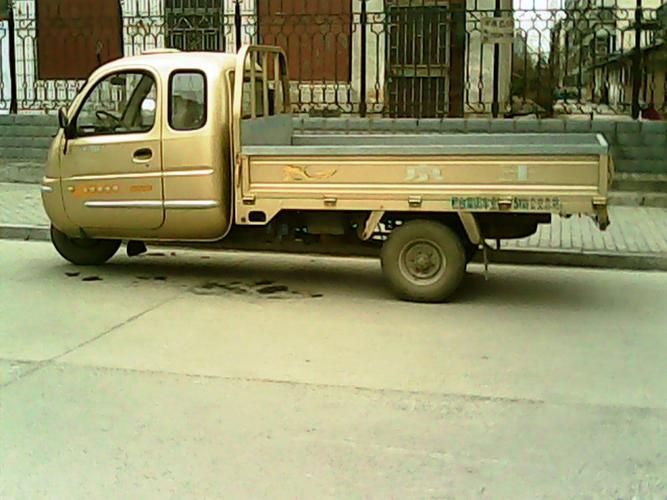empty: (28, 27, 630, 305)
